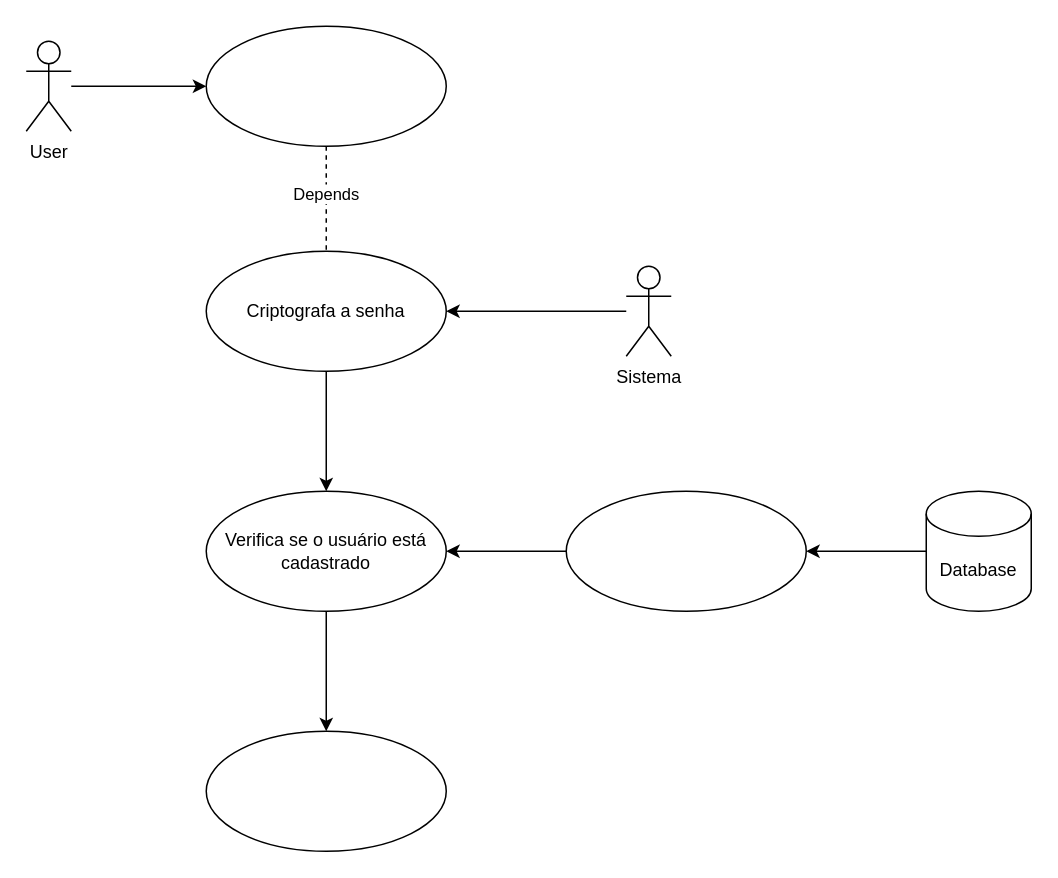
This 1058x878 diagram has some shape labels left out. Here are the shapes that lost their labels. From the top down, the box of each, then its label:
(205, 25, 446, 146): Insere seu Username e Password
(565, 490, 806, 611): Envia as informações do usuário
(205, 730, 446, 851): Entra no jogo
